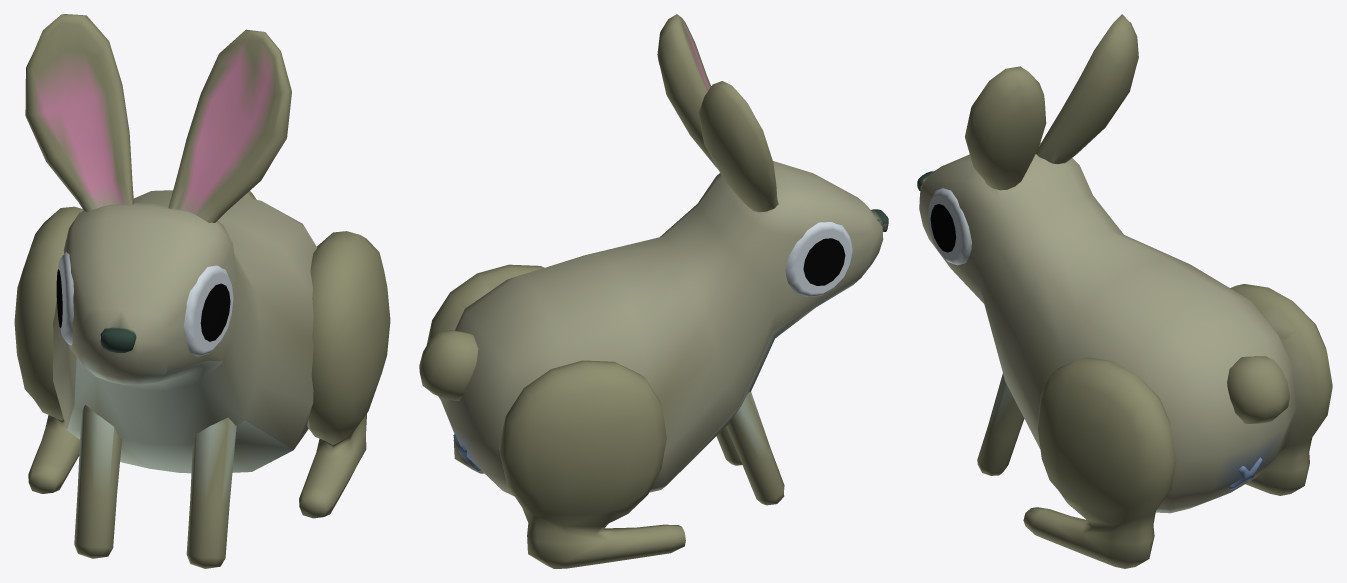
Rendered from Jackrabbit.glb.
3 renders of one model, left to right at view 1: azimuth 30°, elevation 25°; view 2: azimuth 150°, elevation 25°; view 3: azimuth 270°, elevation 25°, orthographic. The views are drawn at different scales.
Visible parts, largest first — view 1: 77; view 2: 77; view 3: 77.
Part boxes in pixels (x1,y1,x2,y2): 77: (14,14,390,568); 77: (419,14,888,568); 77: (917,14,1332,568).
Size of the model in its own units: 0.6519 by 0.7862 by 0.6849.
